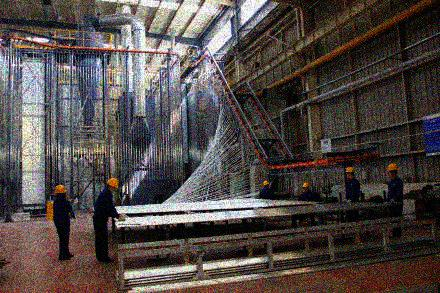helmet: (106, 177, 119, 193), (386, 163, 398, 180), (53, 184, 67, 198), (345, 166, 356, 179), (302, 181, 310, 193)
